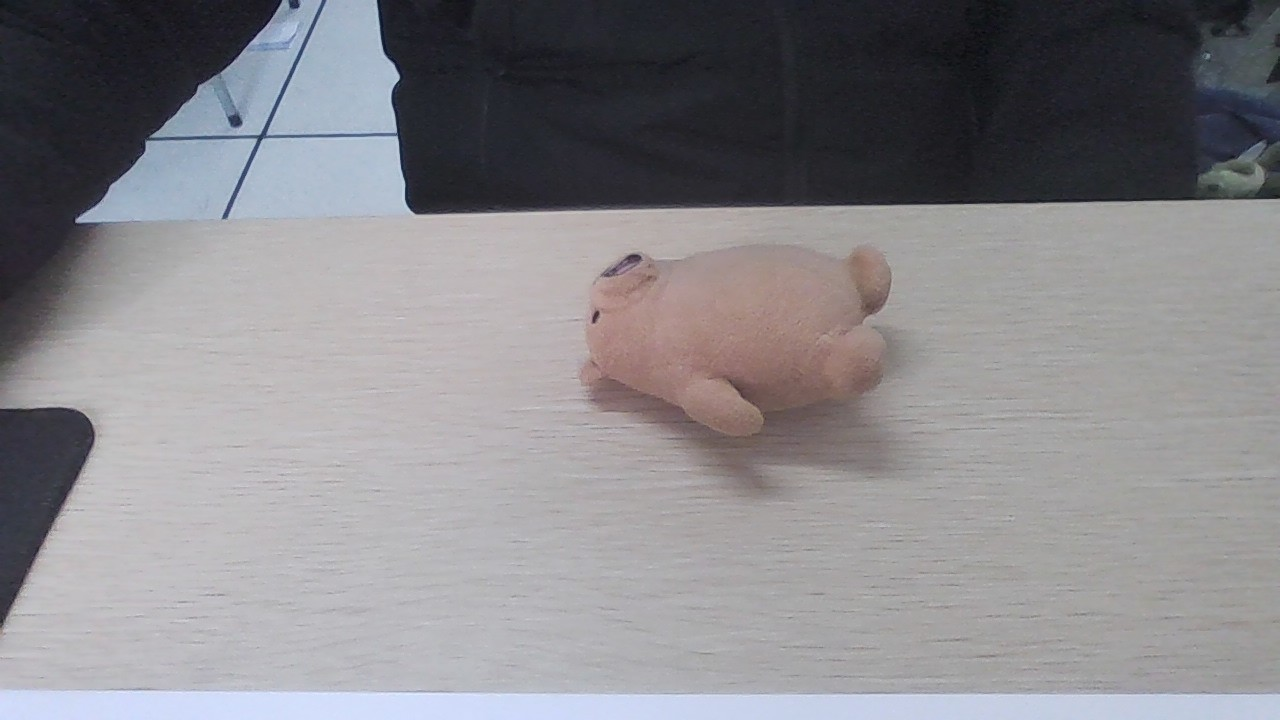KHS-doll: (575, 237, 893, 444)
